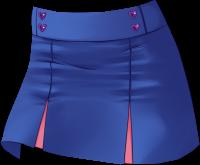Hemline: (0, 99, 199, 164)
Waistline: (33, 23, 167, 41), (33, 0, 154, 13)
